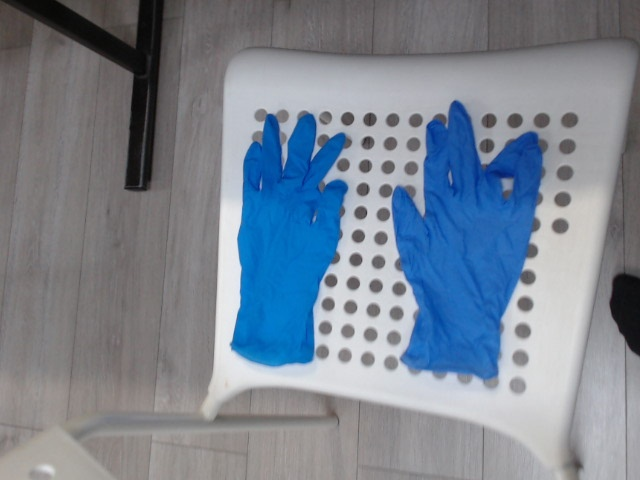medical_glove: (391, 100, 542, 374), (230, 113, 347, 368)
